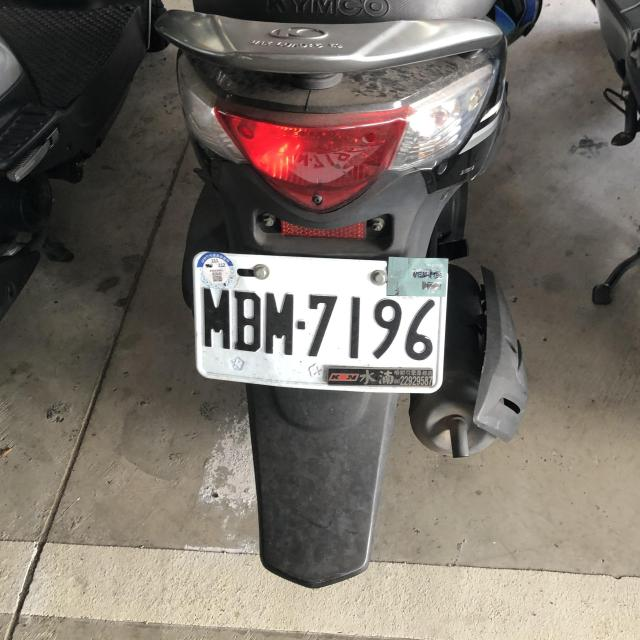W: (188, 250, 449, 392)
